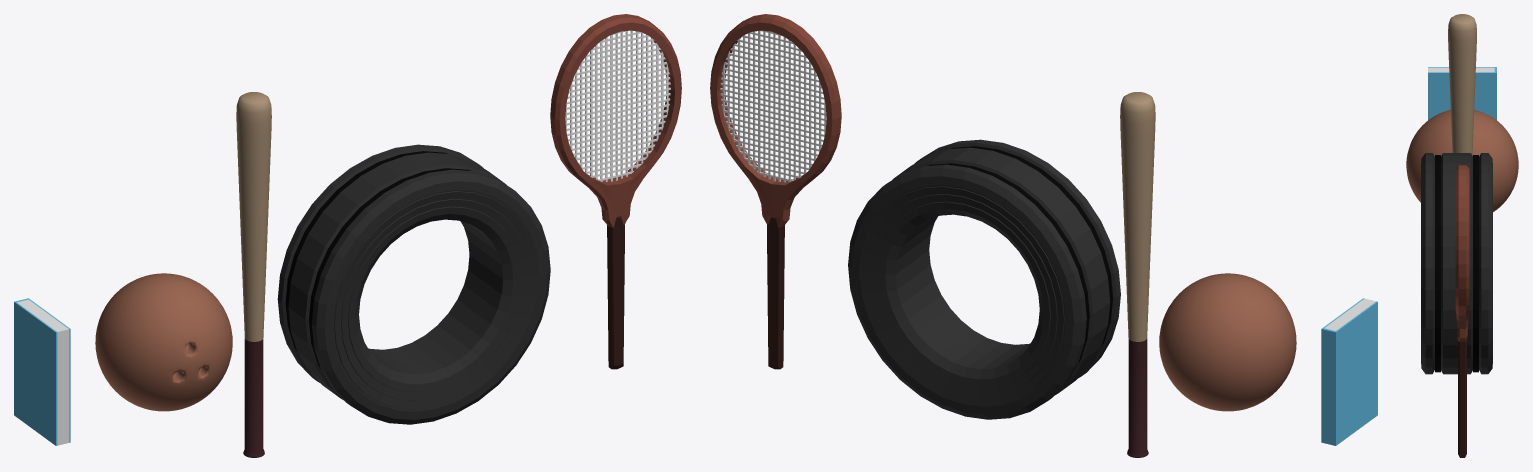
The model's file is EX_ITEM.fbx.
3 views of the same model, side by side, from view 1: azimuth 30°, elevation 25°; view 2: azimuth 150°, elevation 25°; view 3: azimuth 270°, elevation 25° (orthographic). The views are drawn at different scales.
Parts seen in each view (by area): view 1: Cylinder.003, Plane.003, Sphere, Cylinder.014, Cube; view 2: Cylinder.003, Plane.003, Sphere, Cylinder.014, Cube; view 3: Cylinder.003, Sphere, Plane.003, Cylinder.014, Cube.
Boxes of the visible parts, x1,y1,x2,y2 form: Cylinder.003: (277, 144, 550, 424); Plane.003: (550, 14, 681, 369); Sphere: (95, 273, 232, 411); Cylinder.014: (236, 92, 271, 457); Cube: (14, 298, 70, 445); Cylinder.003: (848, 139, 1120, 419); Plane.003: (710, 14, 841, 369); Sphere: (1159, 273, 1296, 411); Cylinder.014: (1120, 92, 1155, 457); Cube: (1321, 298, 1377, 445); Cylinder.003: (1421, 153, 1492, 374); Sphere: (1406, 110, 1518, 211); Plane.003: (1455, 165, 1469, 457); Cylinder.014: (1448, 14, 1476, 155); Cube: (1428, 67, 1496, 120).
Bounding box in the file's own units: 550 × 293 × 102.
